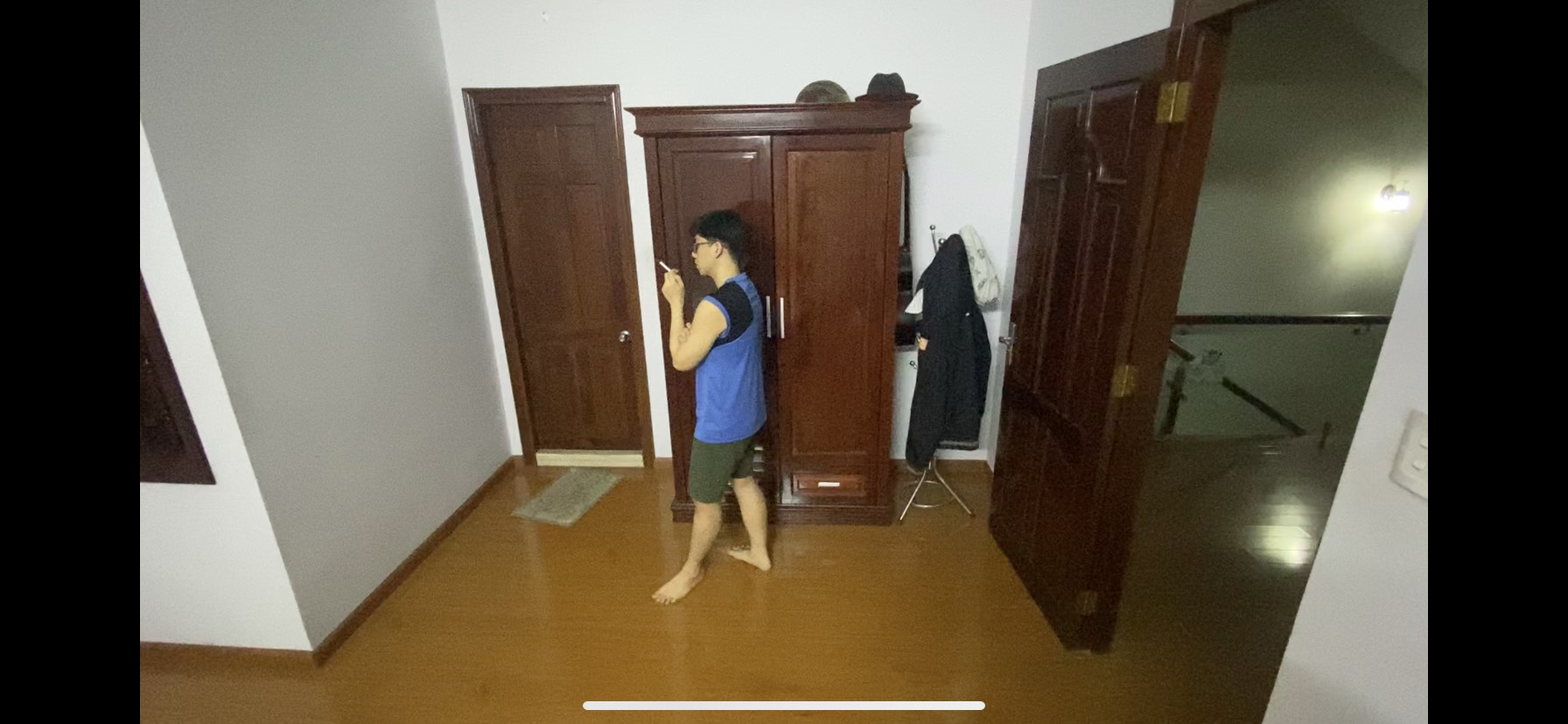cigarette: (659, 257, 669, 273)
person: (633, 208, 804, 613)
